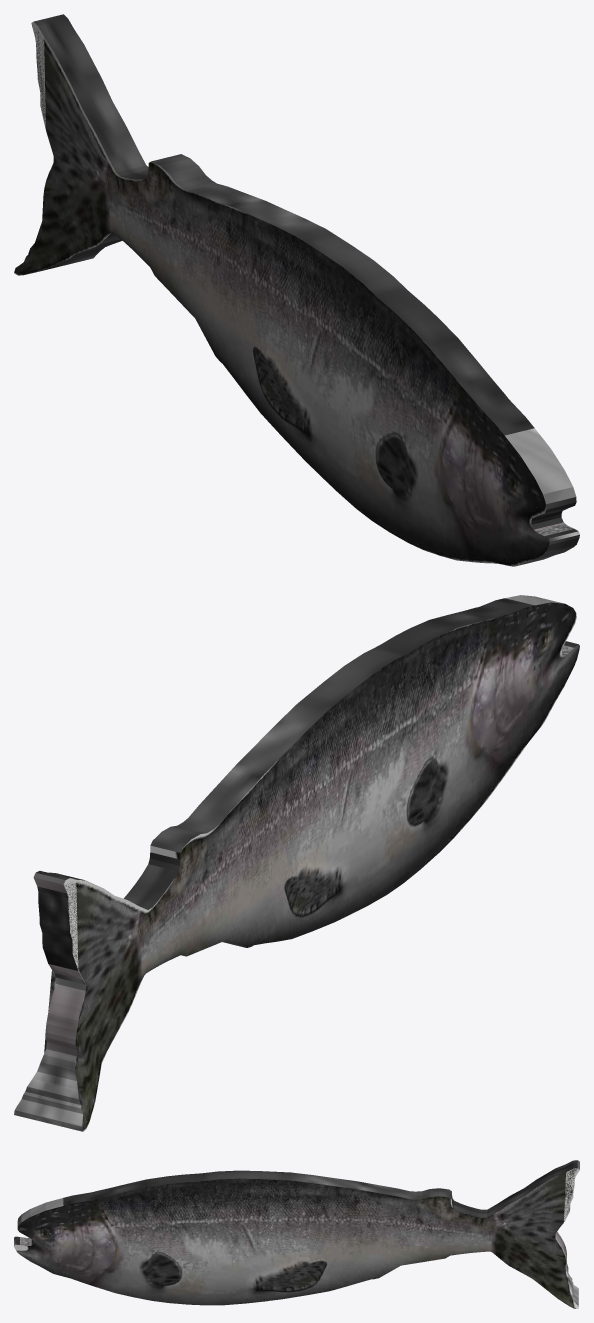
Rendered from fish.fbx.
3 renders of one model, top to bottom at view 1: azimuth 30°, elevation 25°; view 2: azimuth 150°, elevation 25°; view 3: azimuth 270°, elevation 25°, orthographic. The views are drawn at different scales.
Parts seen in each view (by area): view 1: Body; view 2: Body; view 3: Body.
Part boxes in pixels (x1,y1,x2,y2): Body: (14,14,579,566); Body: (14,595,579,1131); Body: (14,1160,579,1308).
Bounding box in the file's own units: 37.44 × 129 × 483.
Materials: 1 (1 with a texture image).
